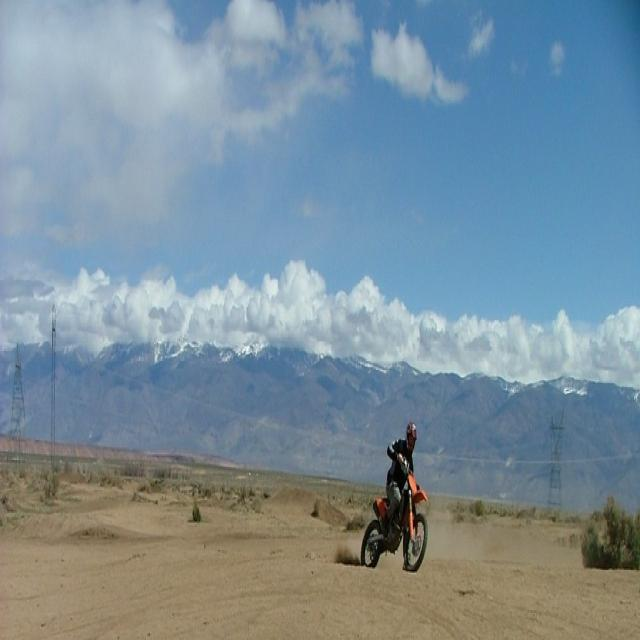Motorbikes: (355, 423, 436, 580)
